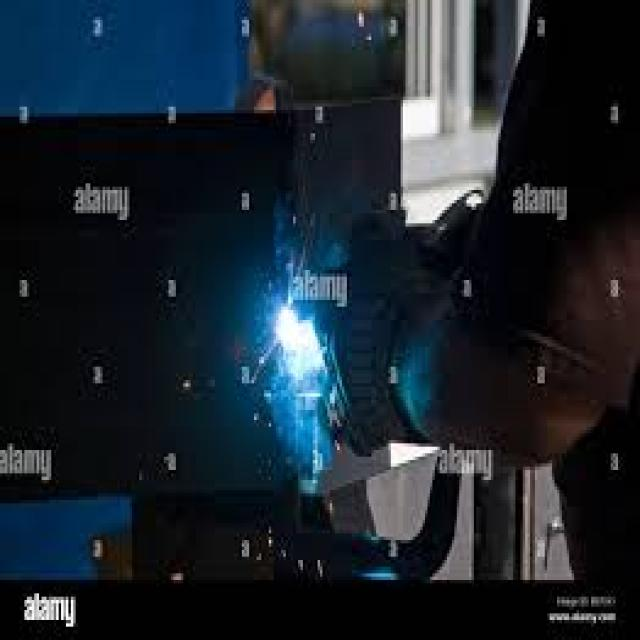welding: (275, 307, 323, 385)
